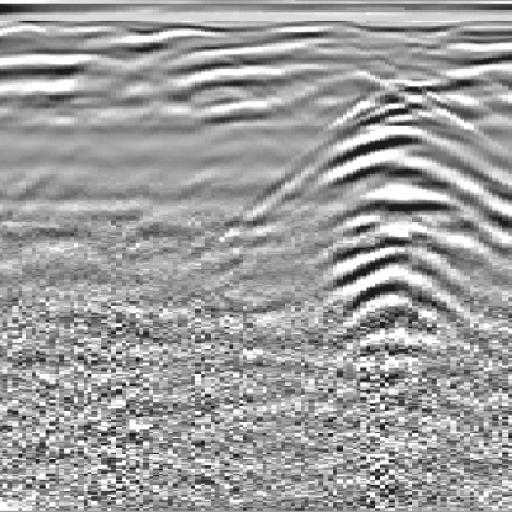metalic: (223, 51, 512, 379)
